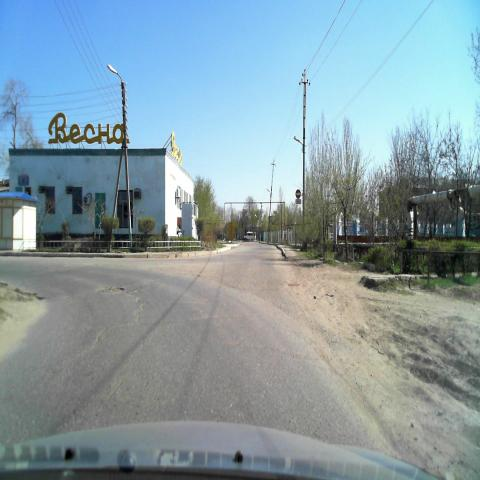3_1: (296, 189, 300, 198)
